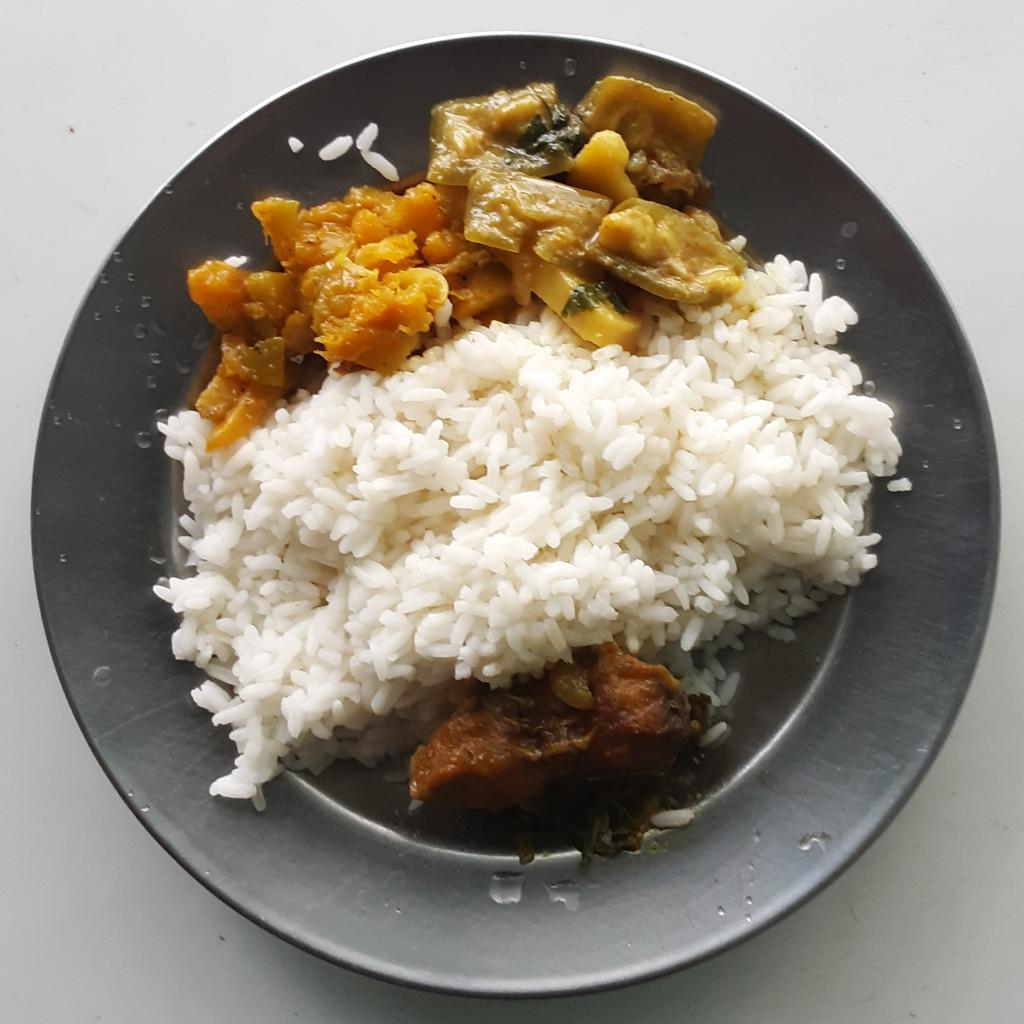chichinga-vaji: (428, 76, 749, 303)
fish: (403, 642, 709, 814)
kumra-vaji: (189, 182, 534, 443)
rice: (142, 250, 908, 809)
